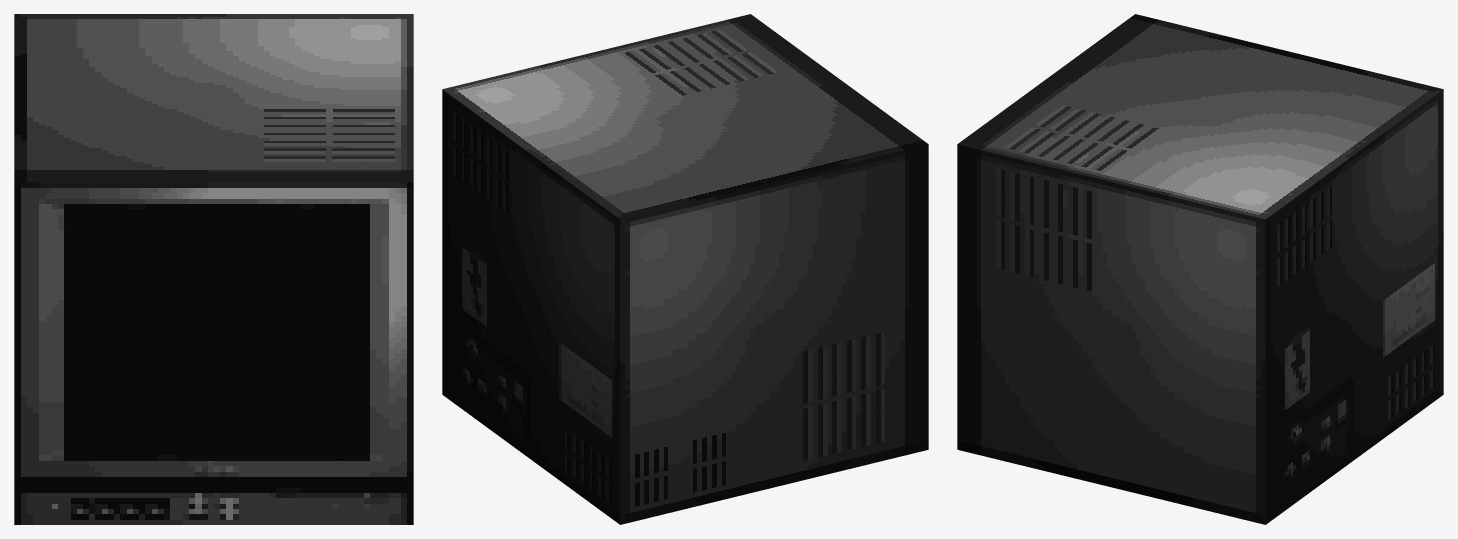
File: primary_188.glb
The picture shows the model from 3 angles, left to right: view 1: azimuth 30°, elevation 25°; view 2: azimuth 150°, elevation 25°; view 3: azimuth 270°, elevation 25°; orthographic projection. The views are drawn at different scales.
Parts seen in each view (by area): view 1: Object; view 2: Object; view 3: Object.
Boxes of the visible parts, x1,y1,x2,y2 form: Object: [14, 14, 413, 524]; Object: [442, 14, 928, 524]; Object: [957, 14, 1443, 524].
Bounding box in the file's own units: 0.6303 × 0.4365 × 0.6303.
7 materials, 7 textured.
